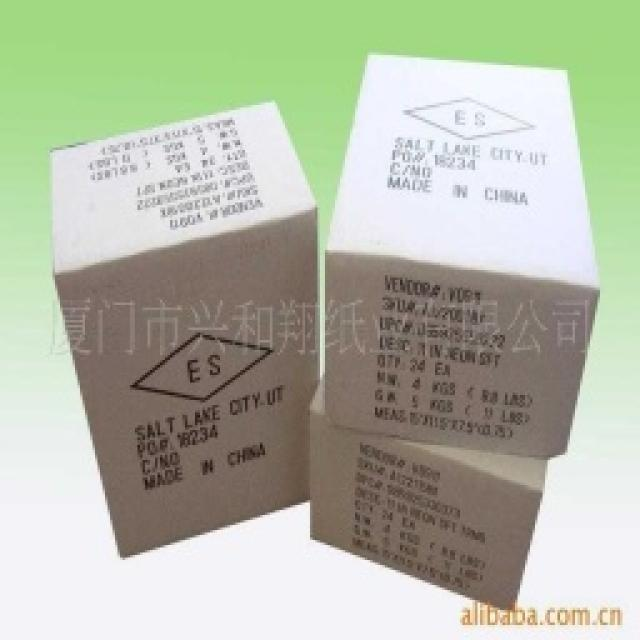box: (36, 140, 322, 540), (354, 39, 591, 449), (313, 374, 554, 619)
